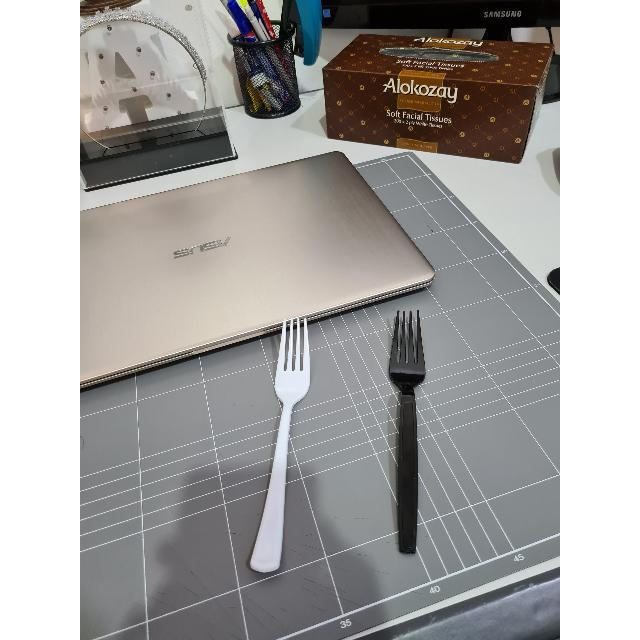Plastico descartable: (250, 318, 310, 572), (389, 310, 425, 554)
